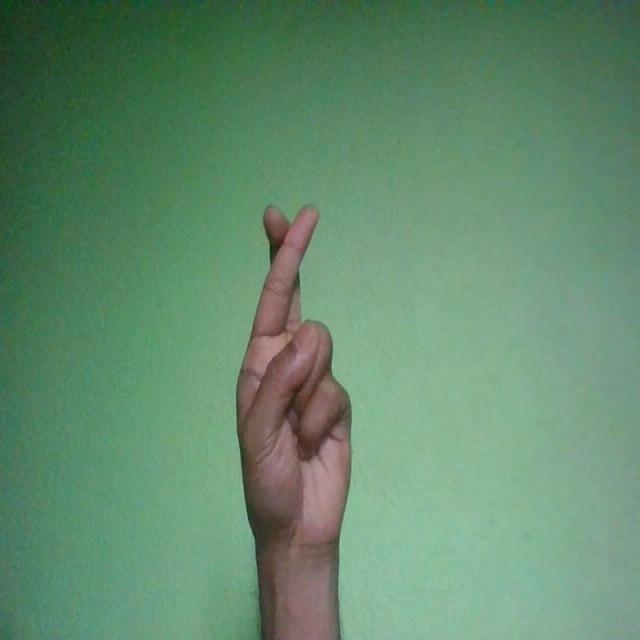Ok: (234, 206, 355, 562)
